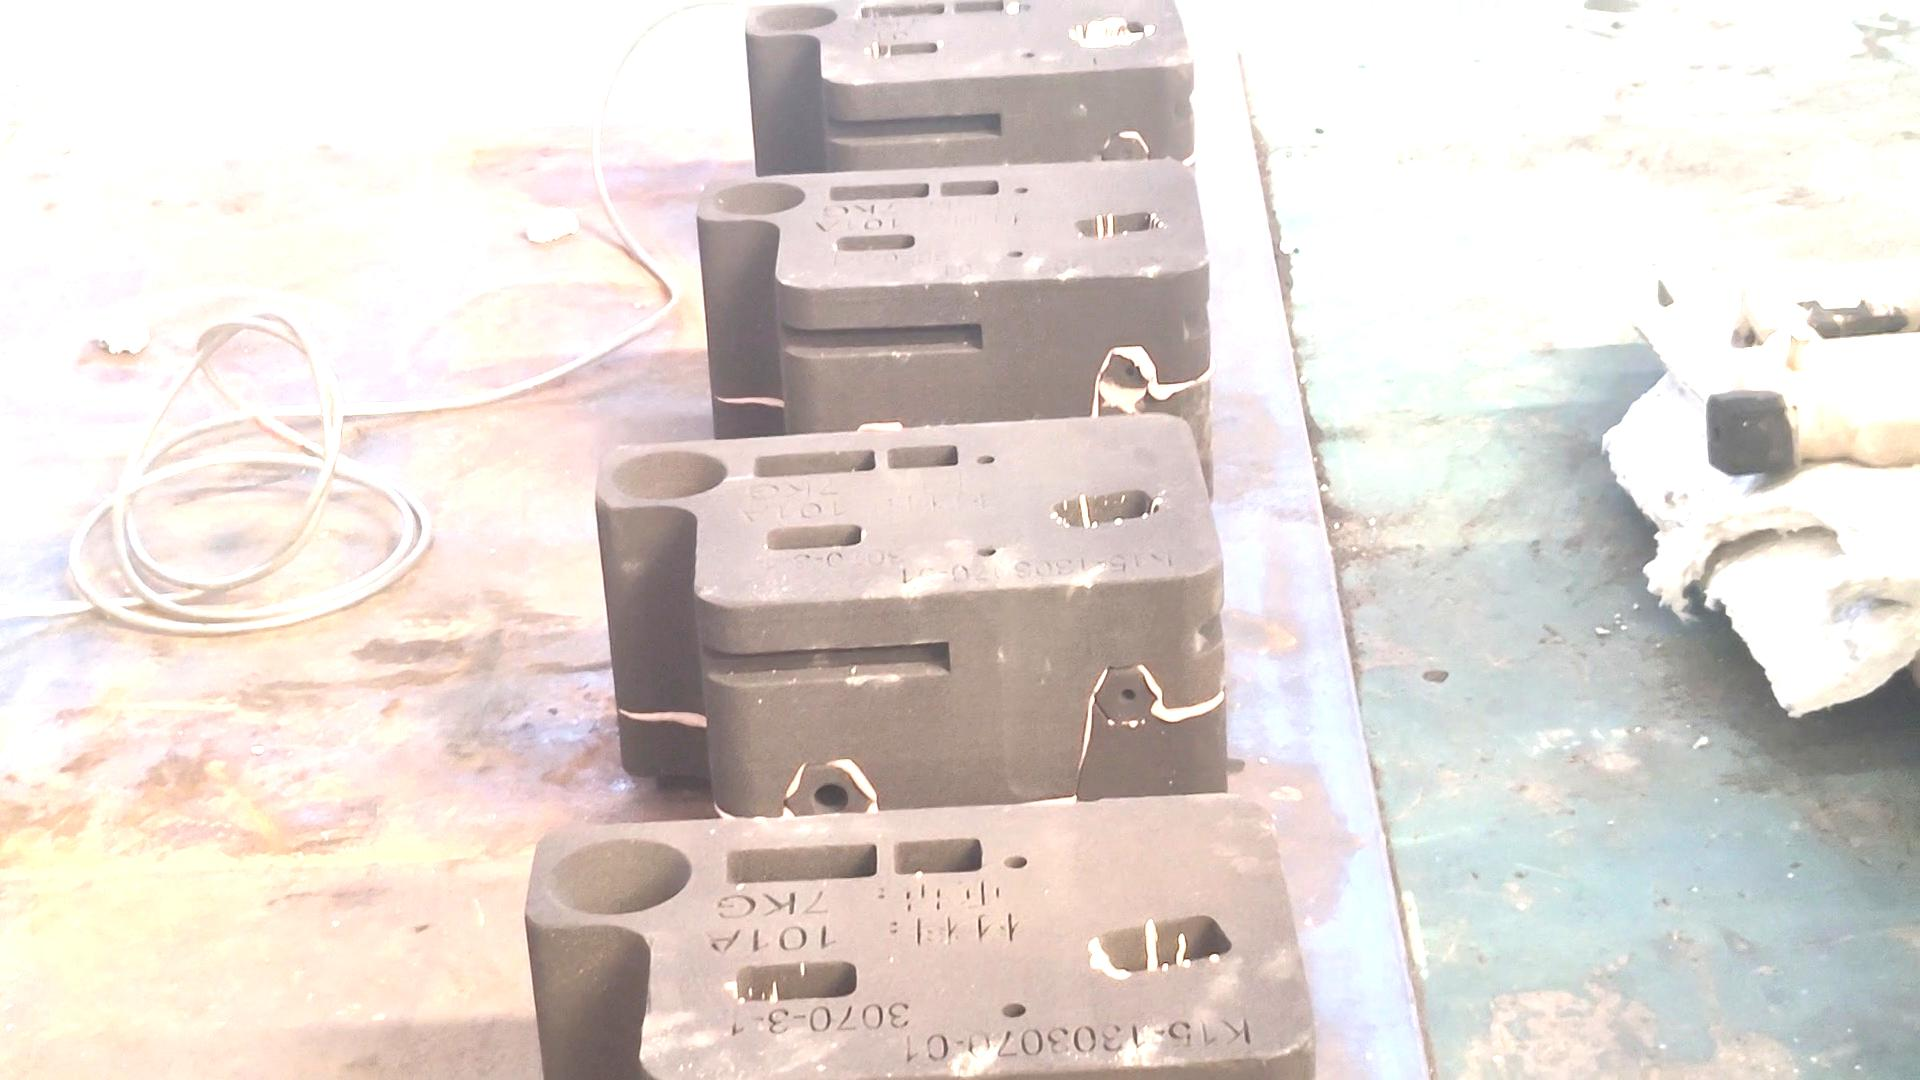pouring hole: (541, 837, 695, 916), (607, 448, 729, 502), (709, 179, 808, 218), (749, 4, 841, 36)
